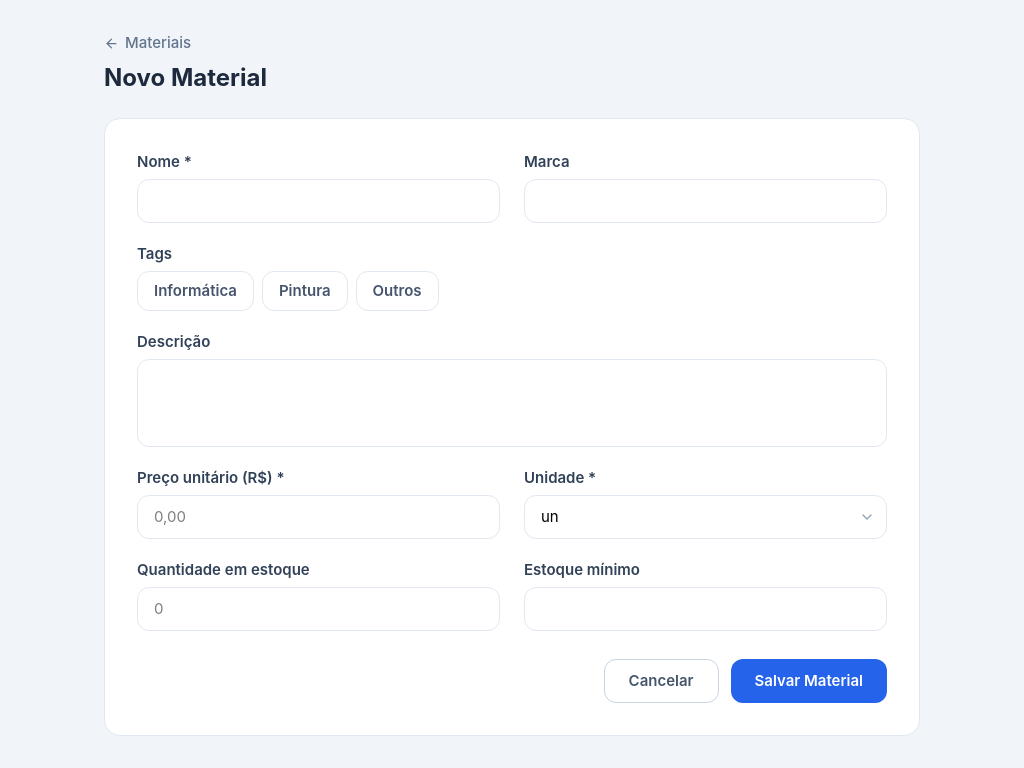
campo de marca do material › exclui uma marca pela lixeira após confirmar, avisando se está em uso
This screenshot has width=1024, height=768.
Type "Gen" into the field below "Marca" at [706, 201], box [524,179,887,223]
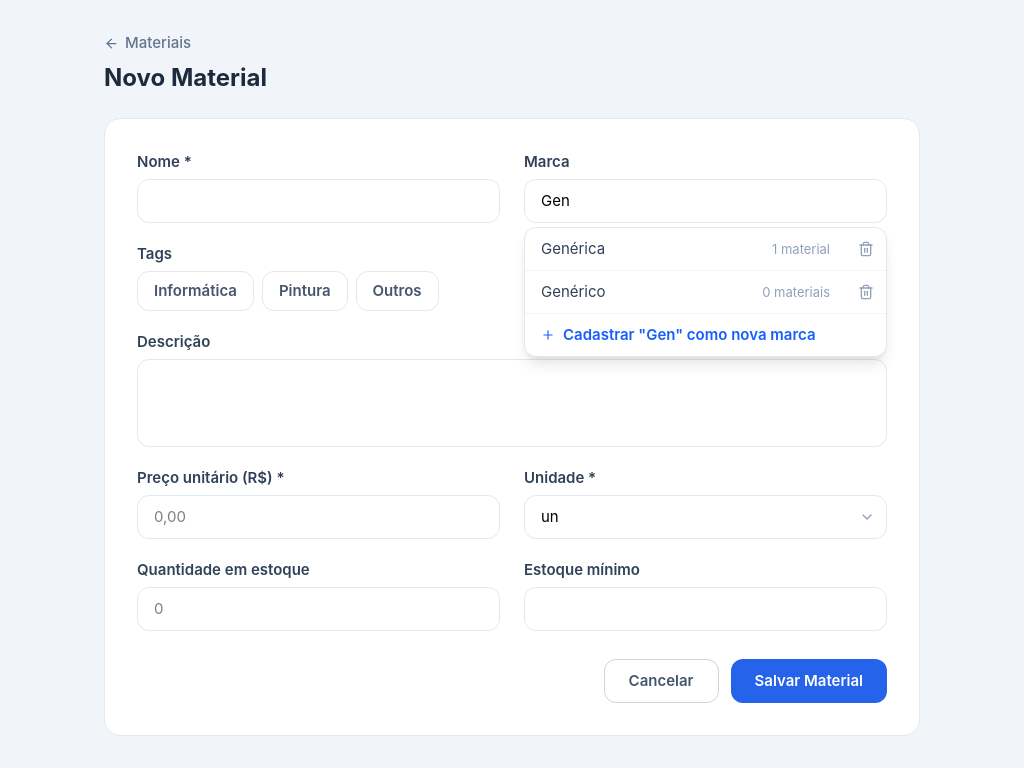
Check: the text "Genérica" is shown, box [541,238,605,260]
Press the mouse on the button named "Excluir marca: Genérica" at [866, 249], box [846,228,886,270]
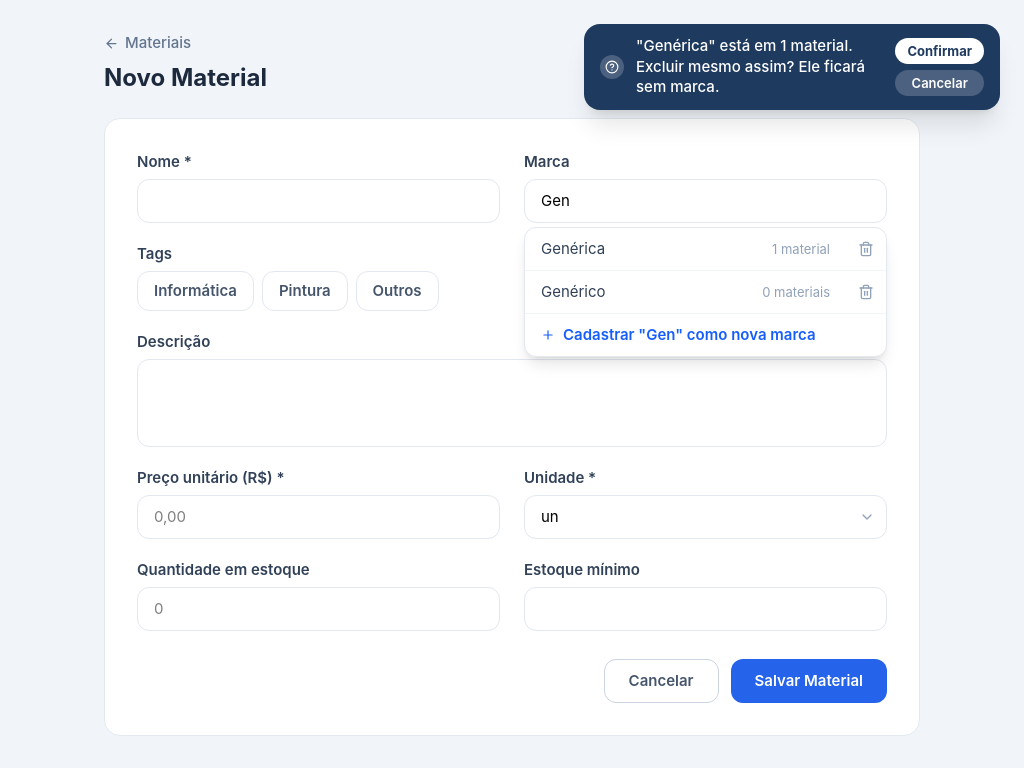
Check: the text "\"Genérica\" está em 1 material. Excluir mesmo assim? Ele ficará sem marca." is shown, box [636,36,883,98]
Click the button "Confirmar" at [940, 51], box [895,38,984,64]
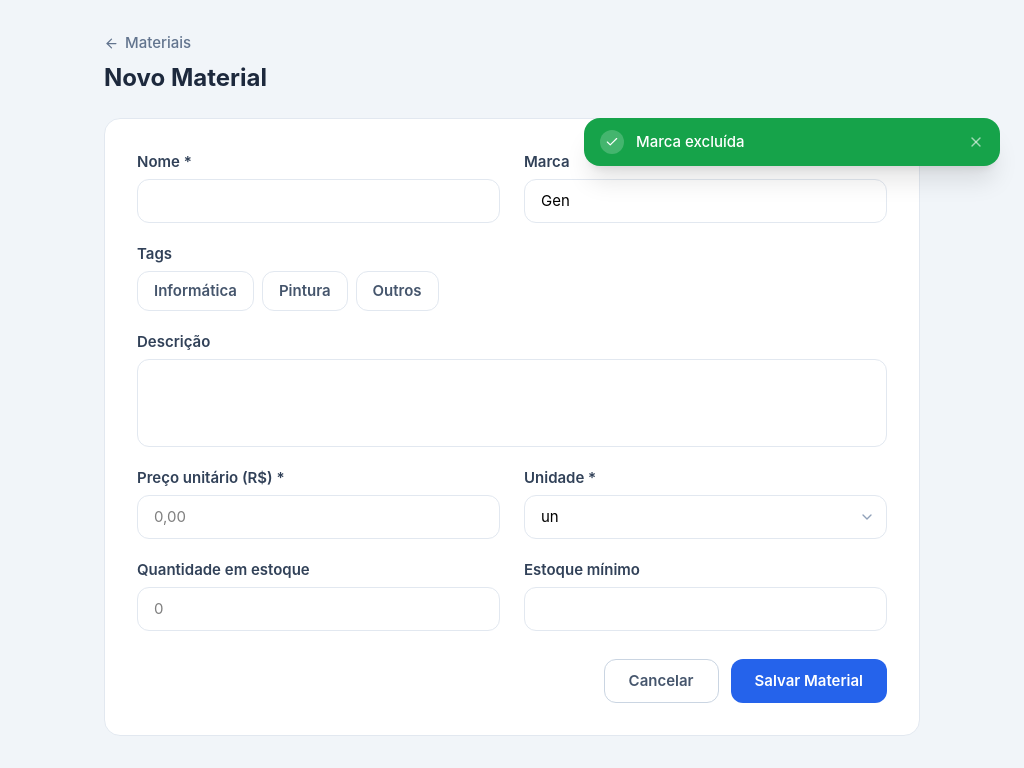
Check: the text "Marca excluída" is shown, box [636,132,745,151]
